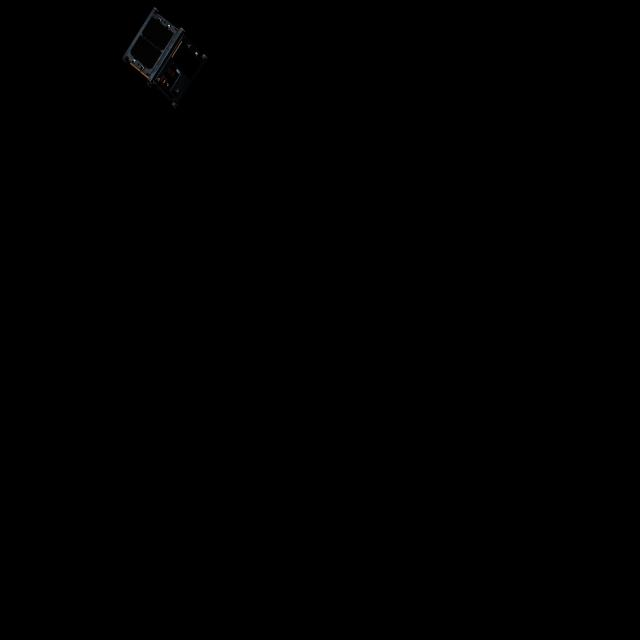medium_debris: (120, 4, 212, 108)
